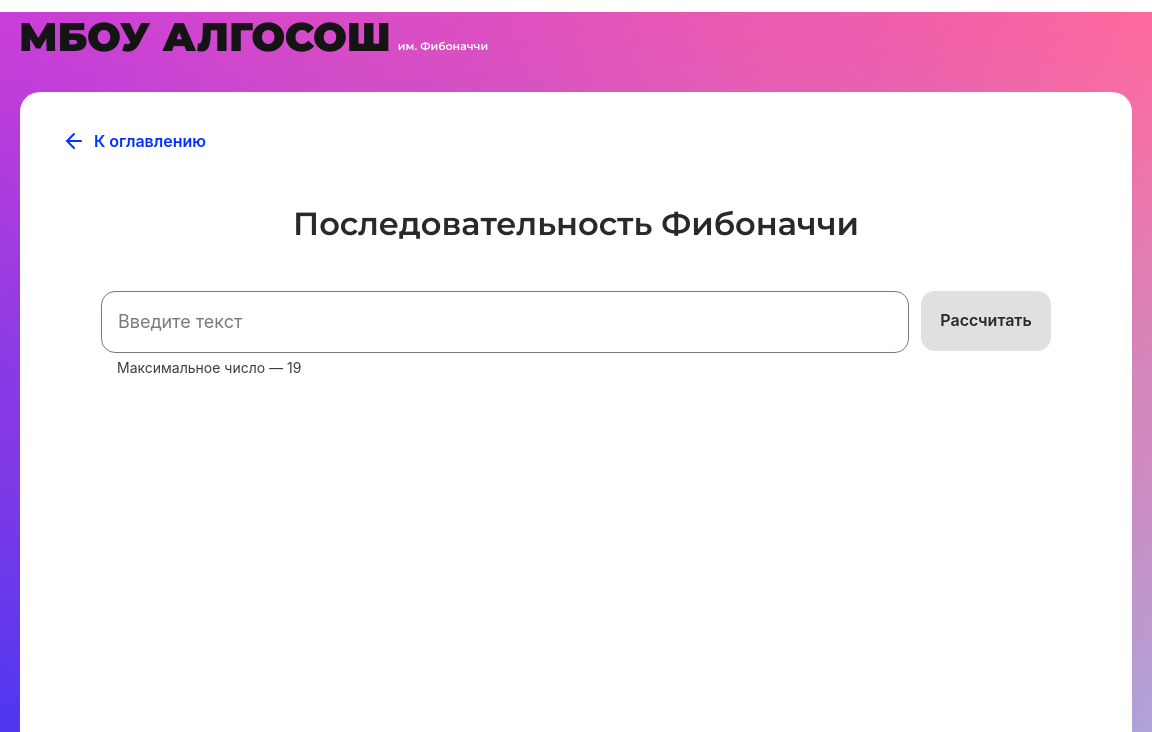
it: fibonacci page › should animate correctly
Type "10" into the number field with test id "fibonacci-input" at (505, 322), box [101,291,909,353]
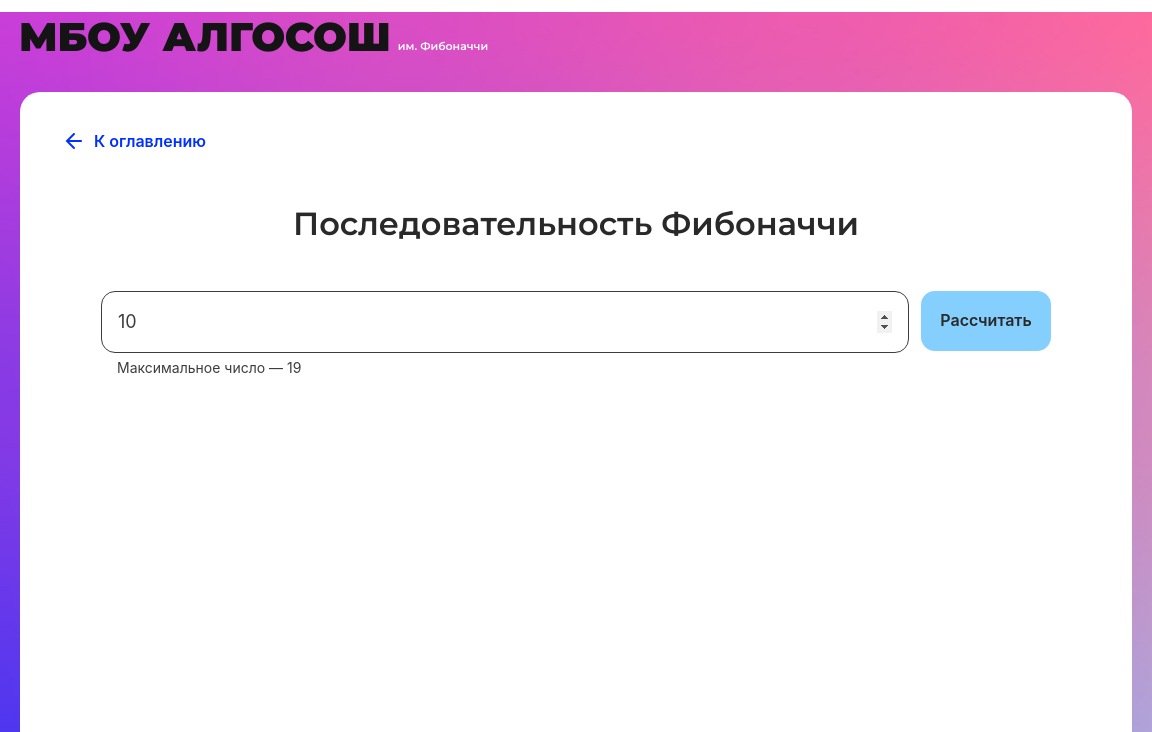
Click the button with test id "fibonacci-submit" at (986, 321), box [921,291,1051,351]
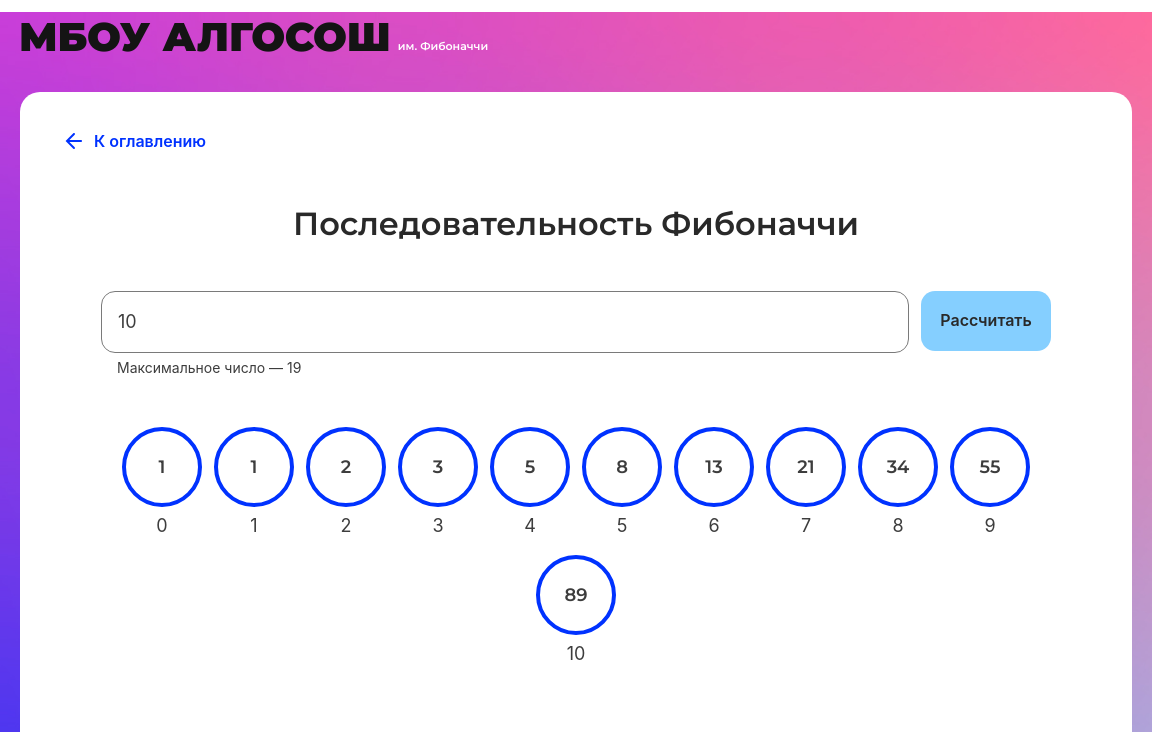
expect the 1st text "1" is shown: met, box [159,456,166,478]
expect the 2nd text "1" is shown: met, box [251,456,258,478]
expect the 1st text "2" is shown: met, box [341,456,351,478]
